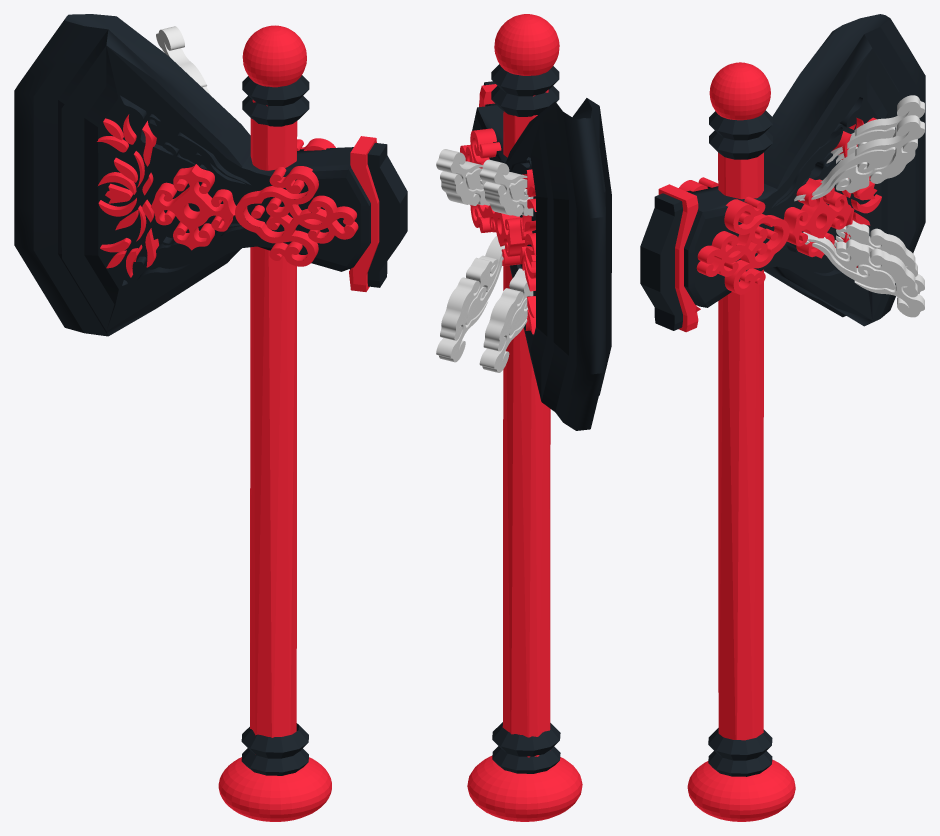
The model's file is FUFU.fbx.
The picture shows the model from 3 angles, left to right: view 1: azimuth 30°, elevation 25°; view 2: azimuth 150°, elevation 25°; view 3: azimuth 270°, elevation 25°; orthographic projection. The views are drawn at different scales.
Parts seen in each view (by area): view 1: Cube, 球体.001, Cube.002, 环体.002, Curve.002; view 2: 球体.001, Cube, Curve.002, 环体.002, Cube.002; view 3: Cube, 球体.001, Cube.002, Curve.002, 环体.002.
Boxes of the visible parts, box(x1,y1,x2,y2) form: Cube: box(14, 14, 407, 336); 球体.001: box(218, 25, 331, 821); Cube.002: box(97, 114, 379, 291); 环体.002: box(241, 75, 309, 775); Curve.002: box(156, 26, 211, 95); 球体.001: box(467, 14, 582, 821); Cube: box(472, 81, 611, 430); Curve.002: box(436, 149, 533, 372); 环体.002: box(491, 64, 560, 773); Cube.002: box(460, 84, 536, 334); Cube: box(640, 14, 925, 330); 球体.001: box(687, 62, 795, 821); Cube.002: box(658, 117, 881, 332); Curve.002: box(794, 95, 924, 317); 环体.002: box(708, 110, 772, 776).
Size of the model in its own units: 127 by 368 by 127.
